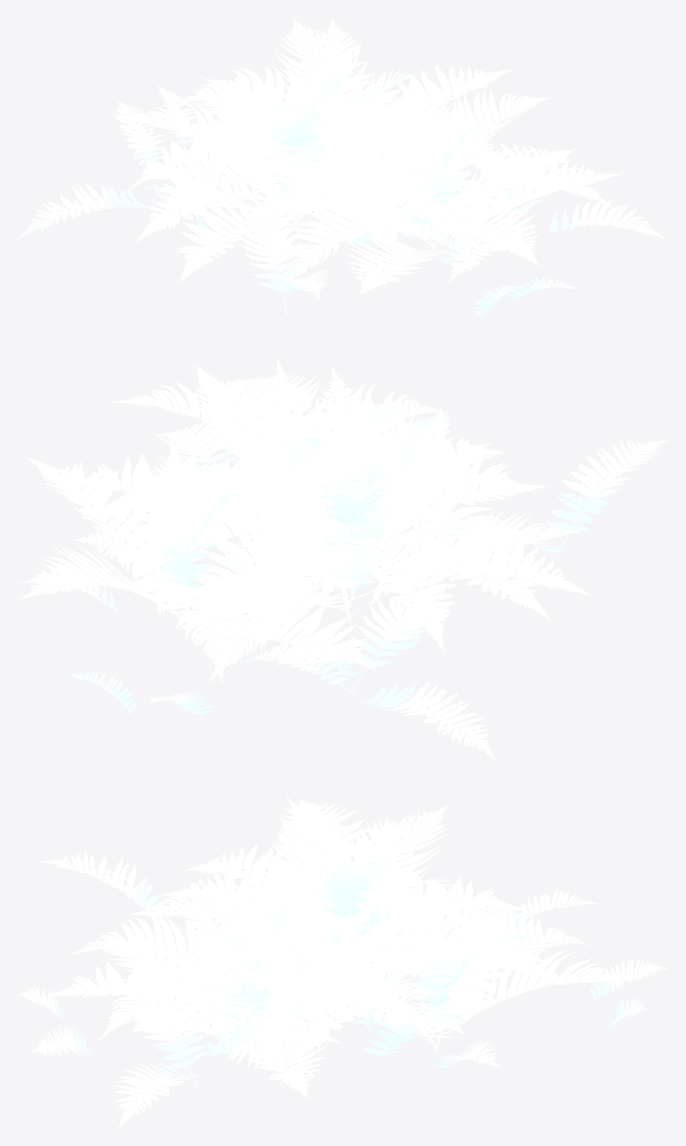
3 renders of one model, top to bottom at view 1: azimuth 30°, elevation 25°; view 2: azimuth 150°, elevation 25°; view 3: azimuth 270°, elevation 25°, orthographic. The views are drawn at different scales.
Visible parts, largest first — view 1: SM_Fern_01_LOD0; view 2: SM_Fern_01_LOD0; view 3: SM_Fern_01_LOD0.
Boxes of the visible parts, box(x1,y1,x2,y2) form: SM_Fern_01_LOD0: box(18, 18, 668, 325); SM_Fern_01_LOD0: box(17, 360, 667, 760); SM_Fern_01_LOD0: box(17, 795, 668, 1128).
Bounding box in the file's own units: 1.03 × 0.4044 × 1.17.
1 material, 1 textured.
